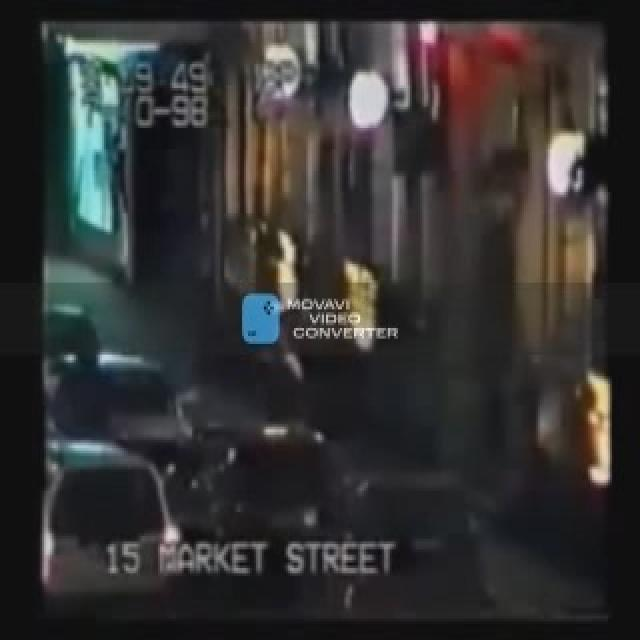non-voilence: (40, 16, 614, 619)
